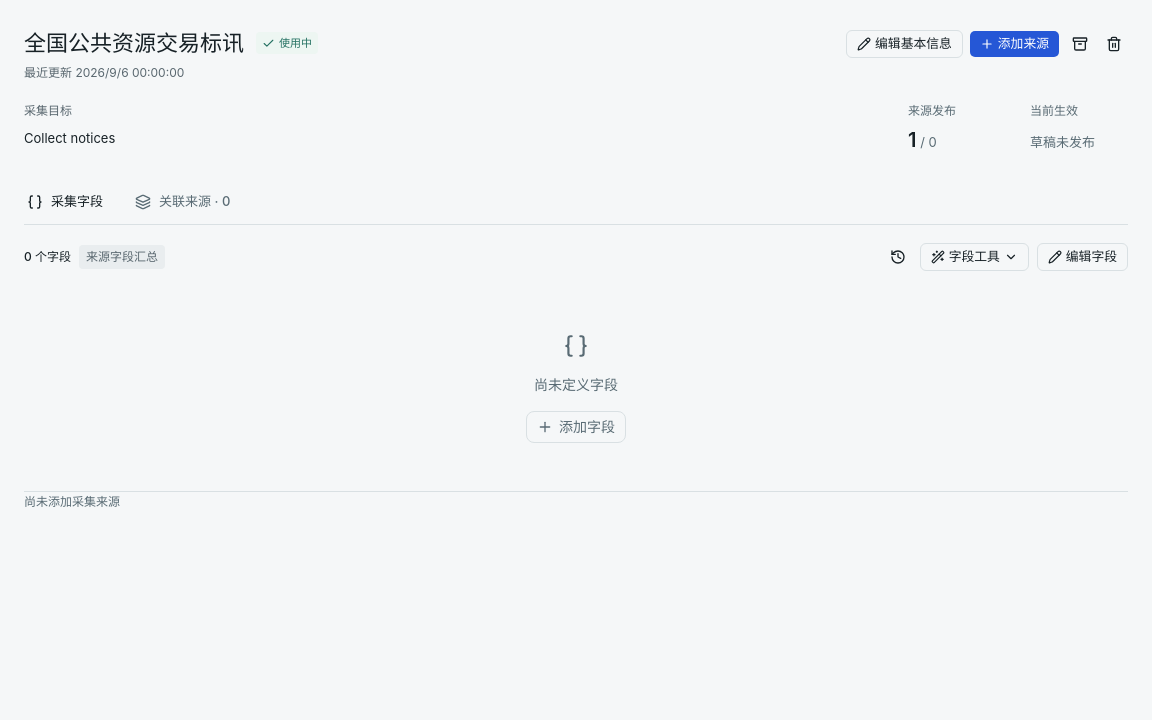
it: requirement CRUD › requires exact name confirmation for deletion and retains the detail when deletion fails
This screenshot has width=1152, height=720.
Click the button named "删除需求".
click(1114, 44)  # box left=1100, top=30, right=1128, bottom=58
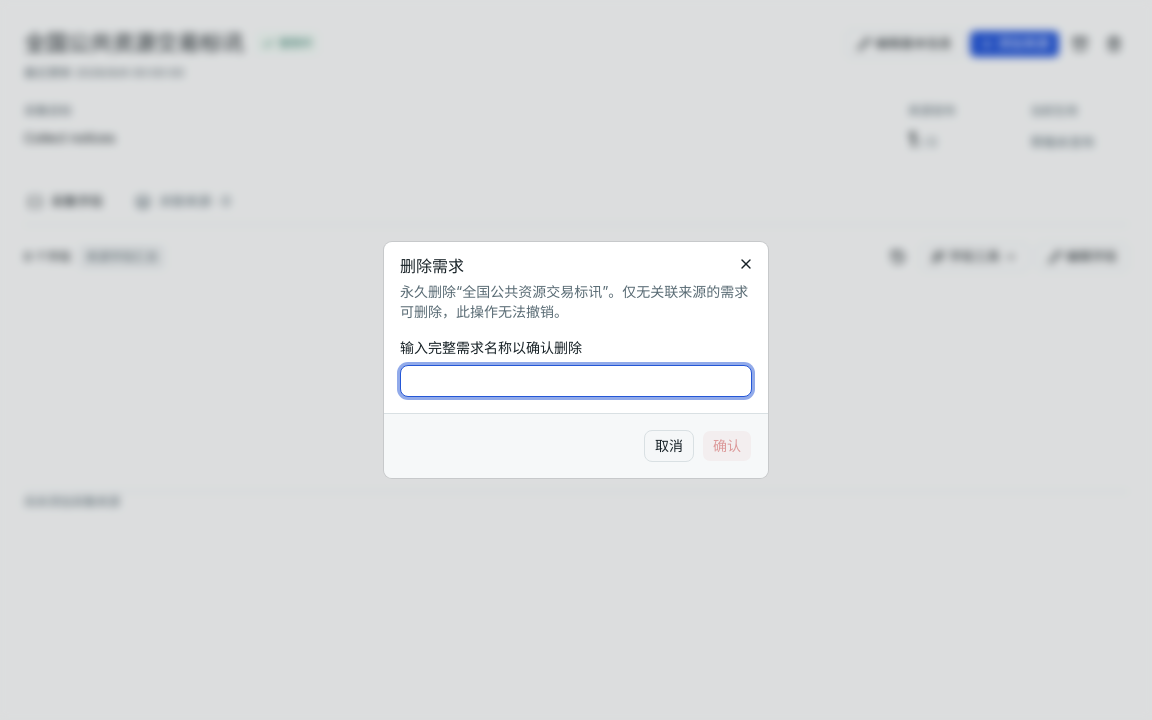
Check: the button "确认" is disabled, box left=702, top=430, right=752, bottom=462
Type "全国公共资源交易标讯" into the field labelled "输入完整需求名称以确认删除".
click(576, 381); type("全国公共资源交易标讯")  # box left=400, top=365, right=752, bottom=397
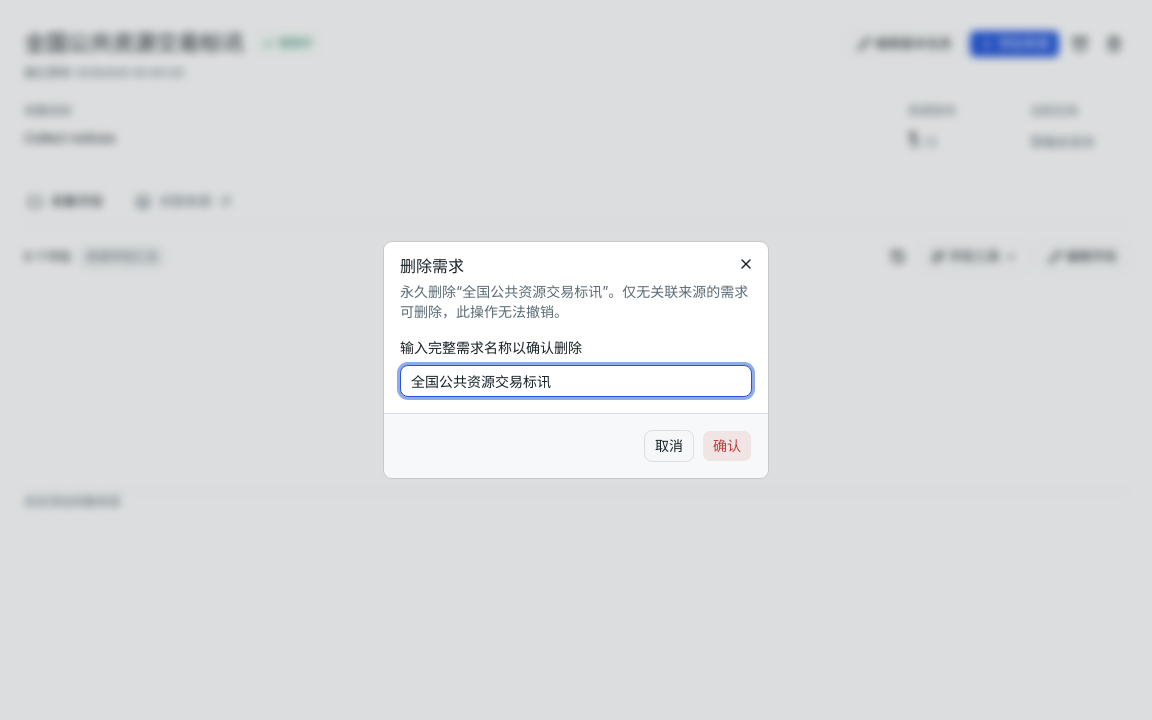
Click the button "确认".
click(727, 446)  # box left=702, top=430, right=752, bottom=462
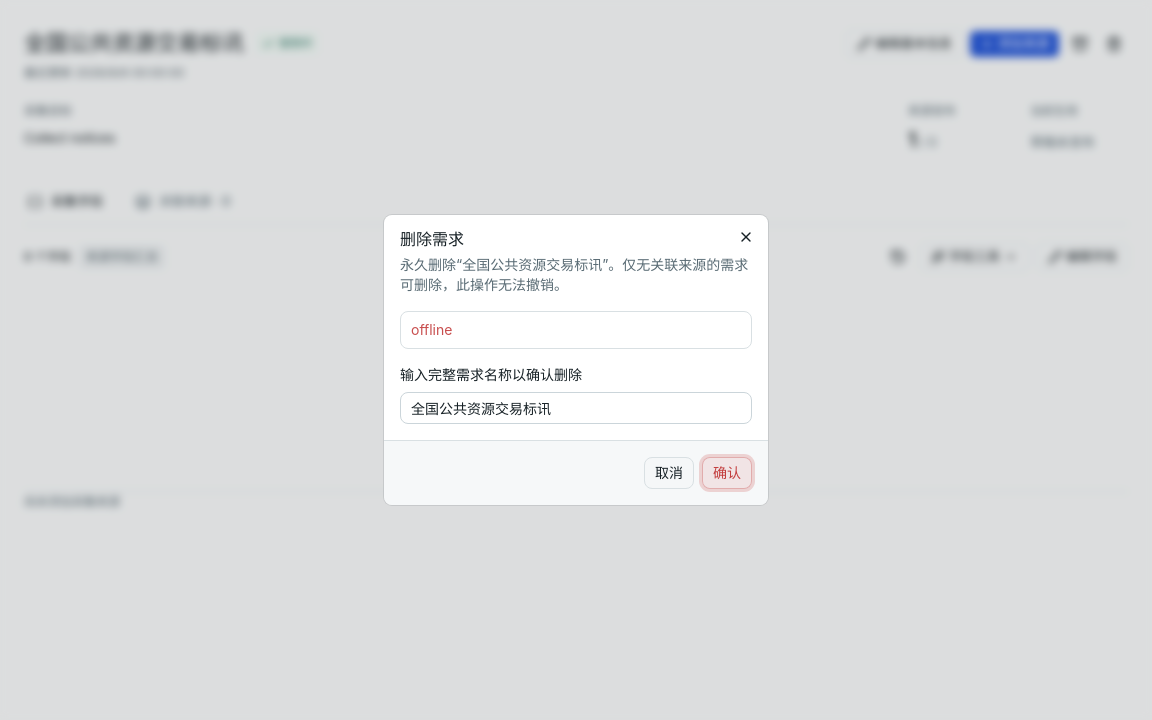
Check: the message reads "offline", box left=411, top=321, right=452, bottom=338
Click the button "确认".
click(727, 473)  # box left=702, top=457, right=752, bottom=489
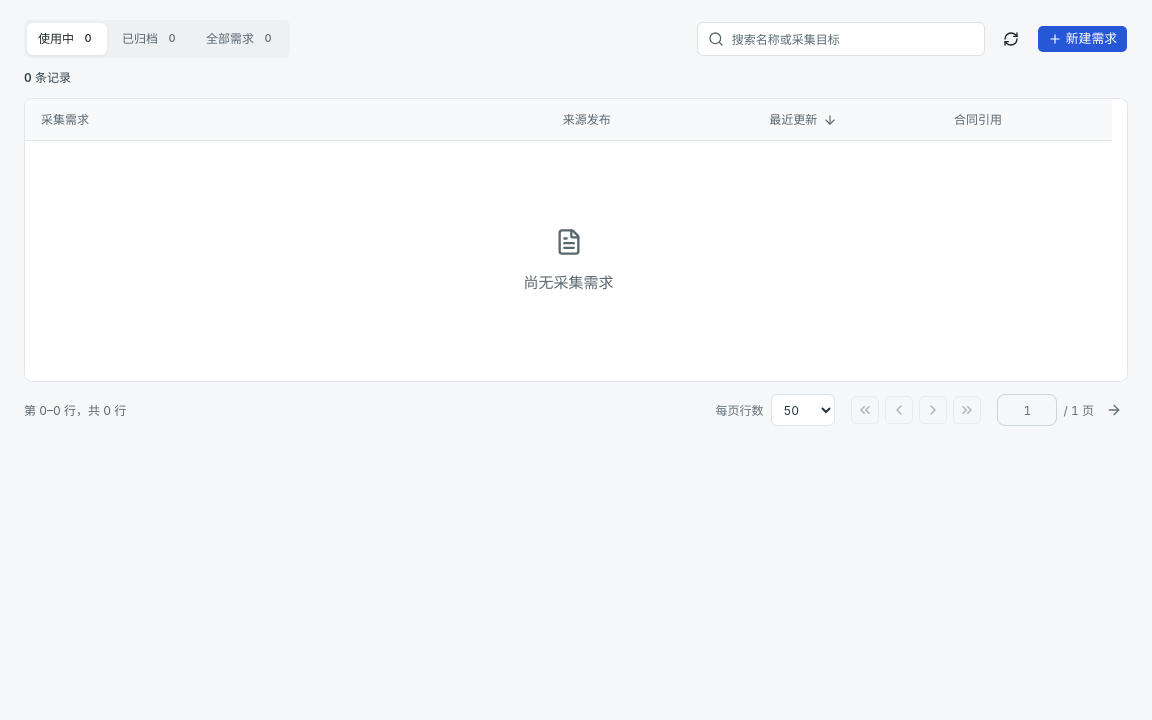
Check: the heading "尚无采集需求" is shown, box left=524, top=272, right=614, bottom=294
